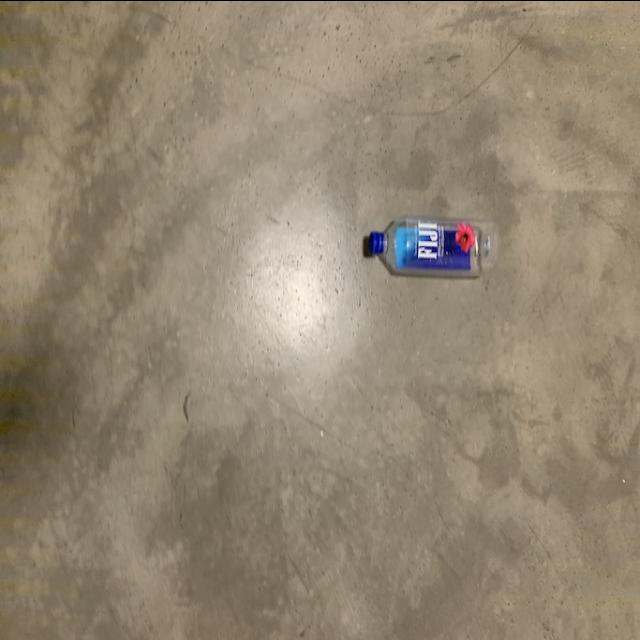PET: (364, 211, 504, 281)
